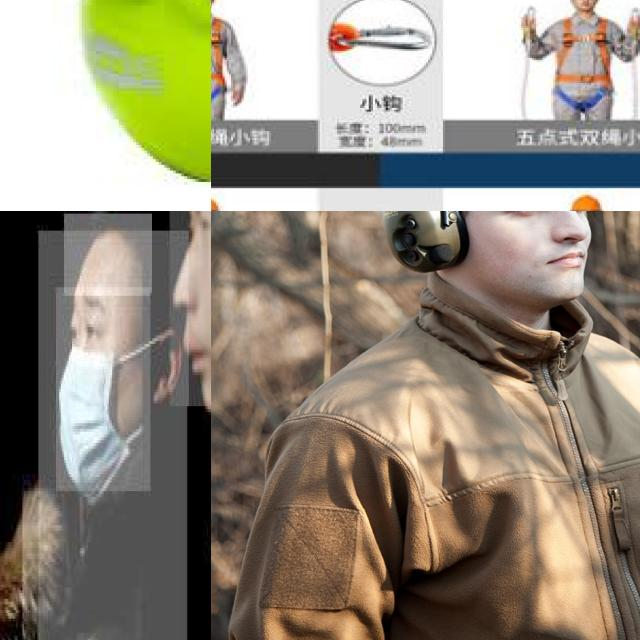Ear-protection: (377, 211, 611, 321), (76, 0, 211, 182)
Harness: (551, 15, 618, 115), (211, 10, 233, 133)
No_Ear-Protection: (148, 323, 185, 415)
No_Glasses: (474, 211, 597, 229)
face_mask: (56, 287, 152, 494)
face_nomask: (169, 211, 211, 409)
head_nohelmet: (64, 214, 154, 296)
person: (38, 230, 188, 640), (142, 211, 211, 640)
